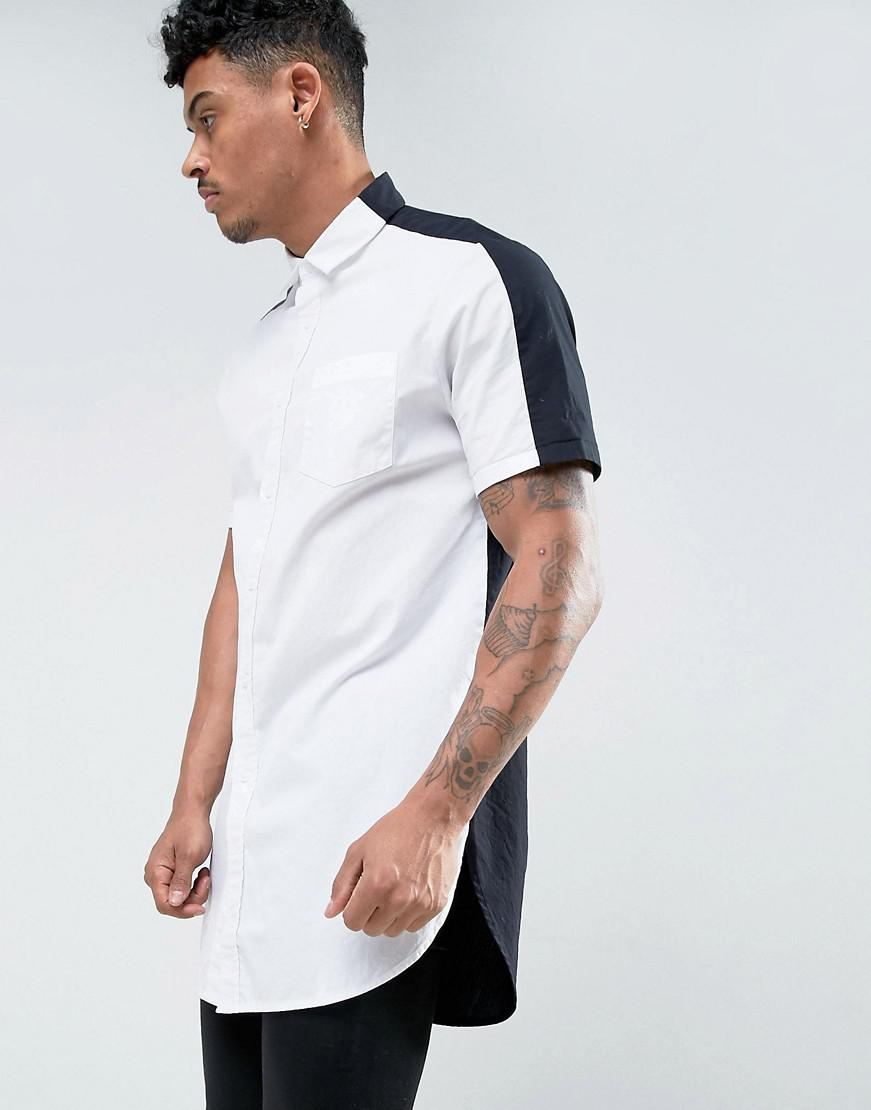teeshirt: (117, 169, 605, 1061)
